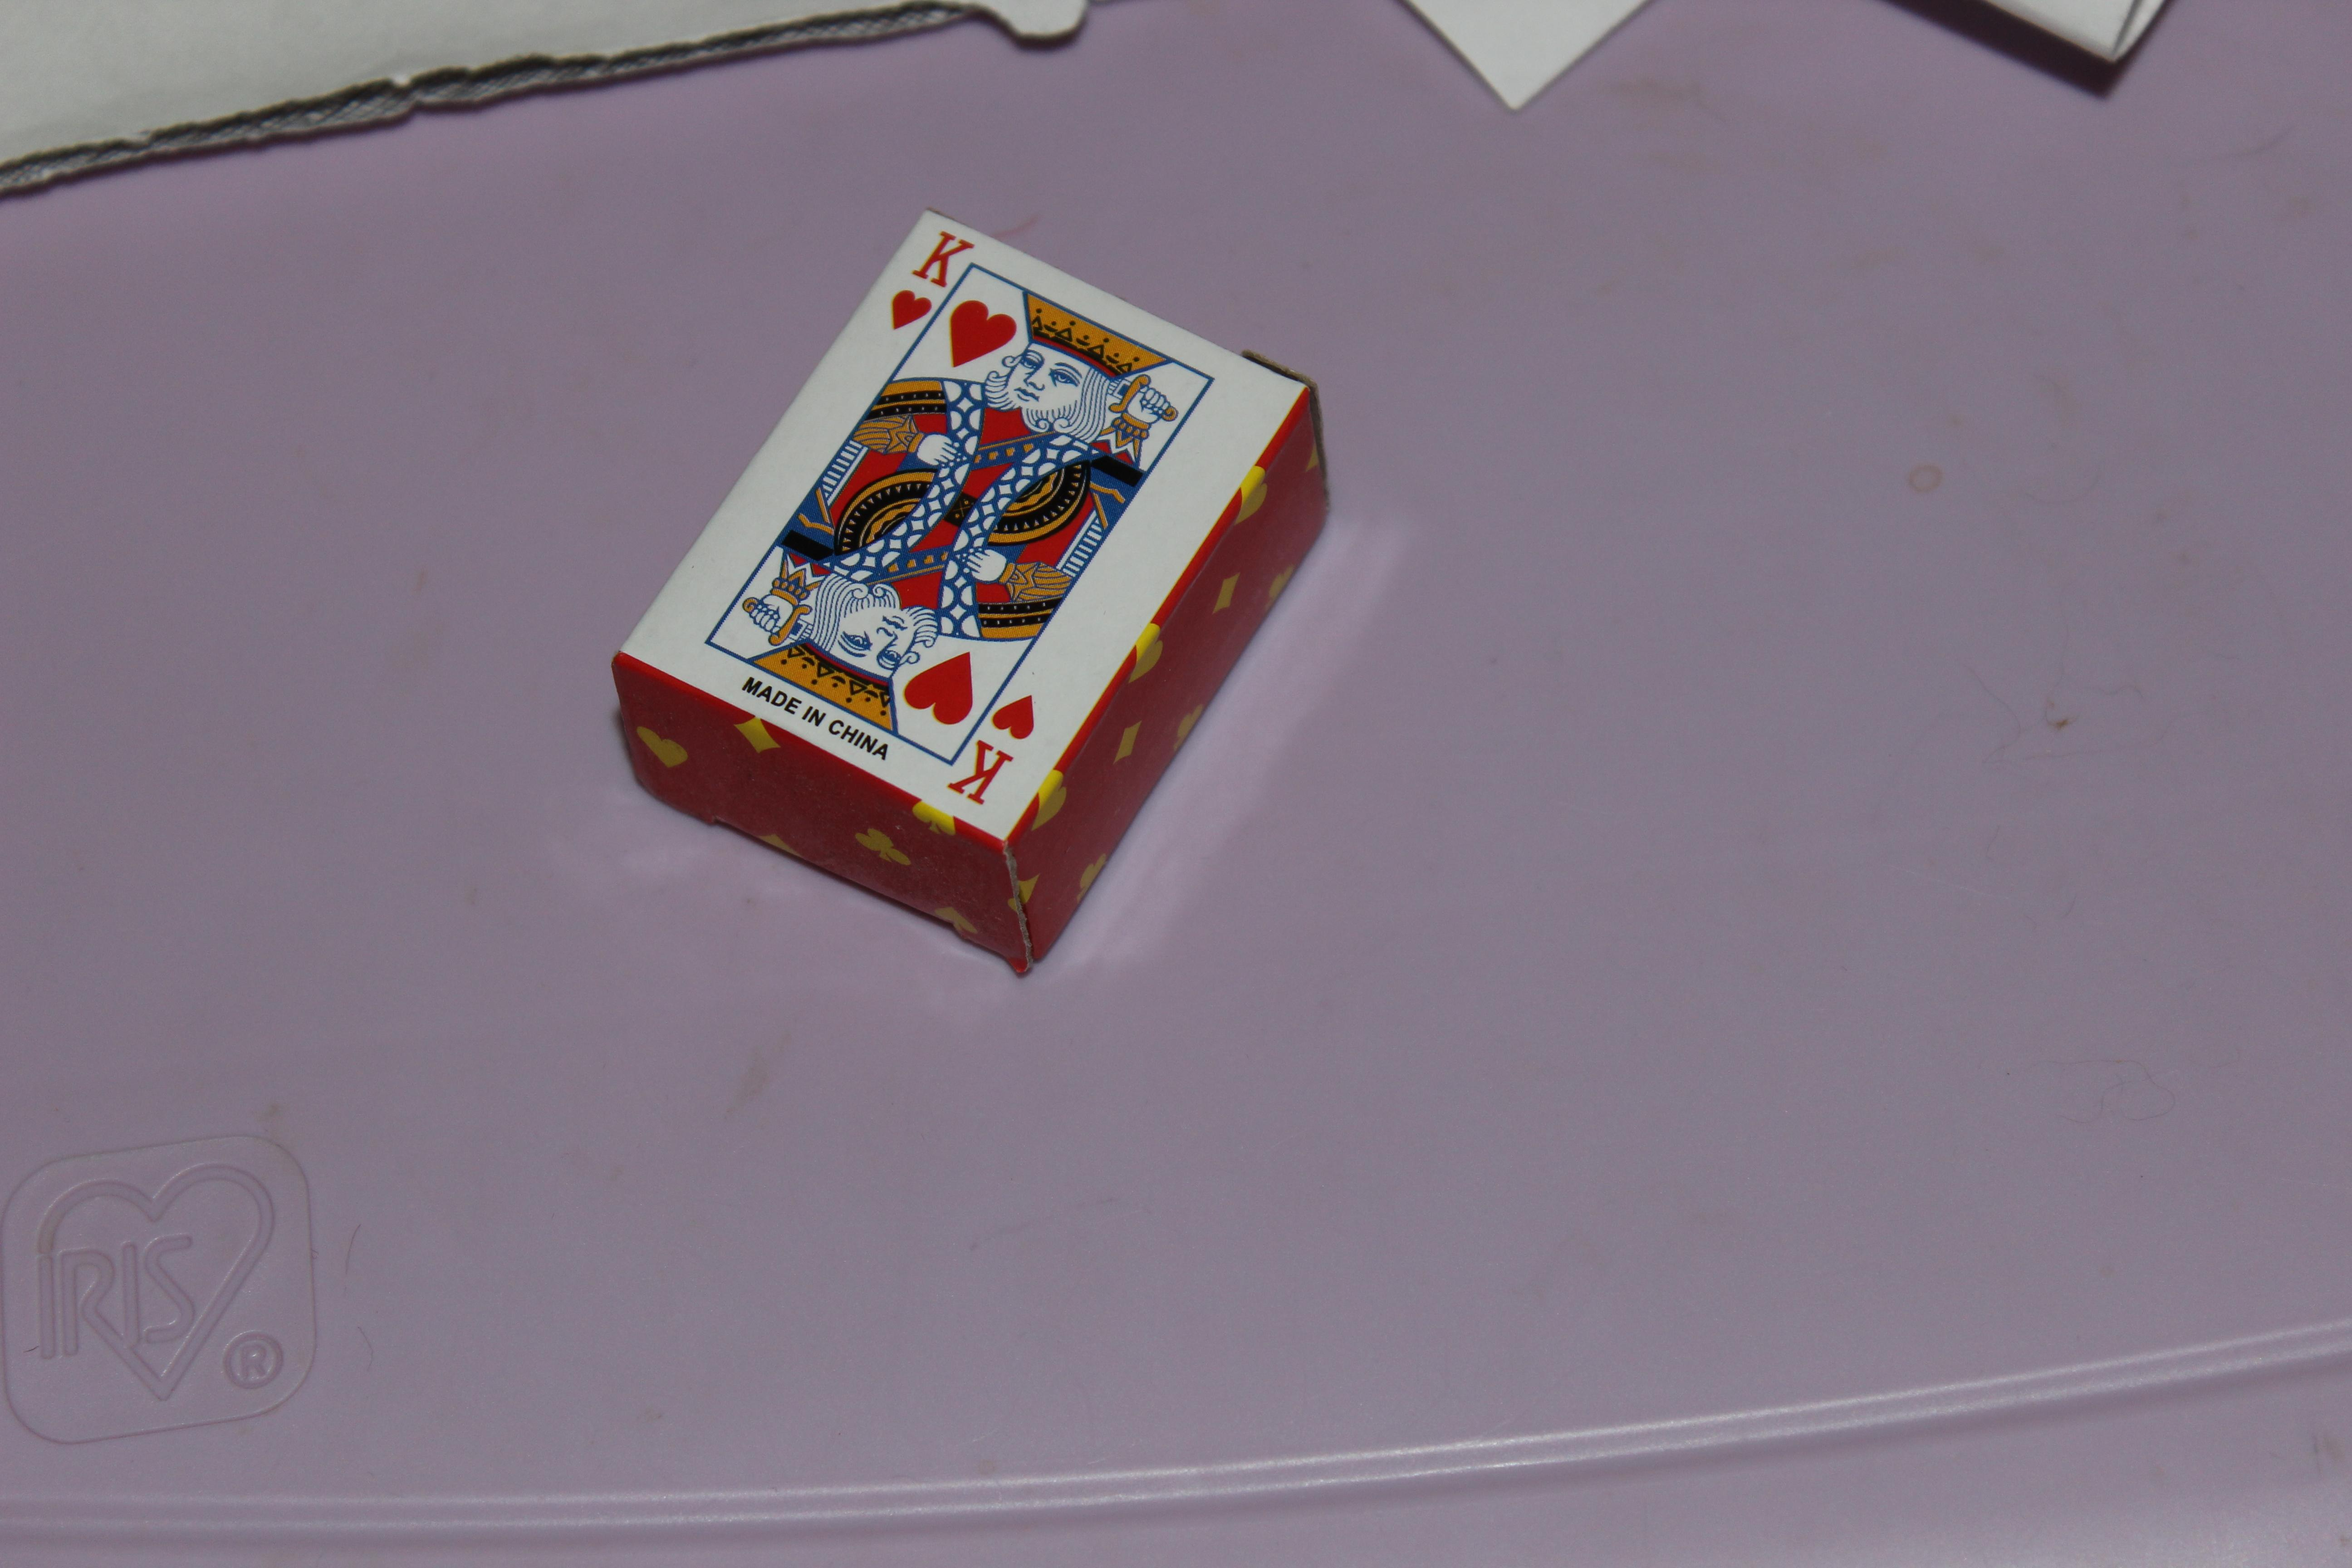miniCards: (586, 182, 1342, 985)
